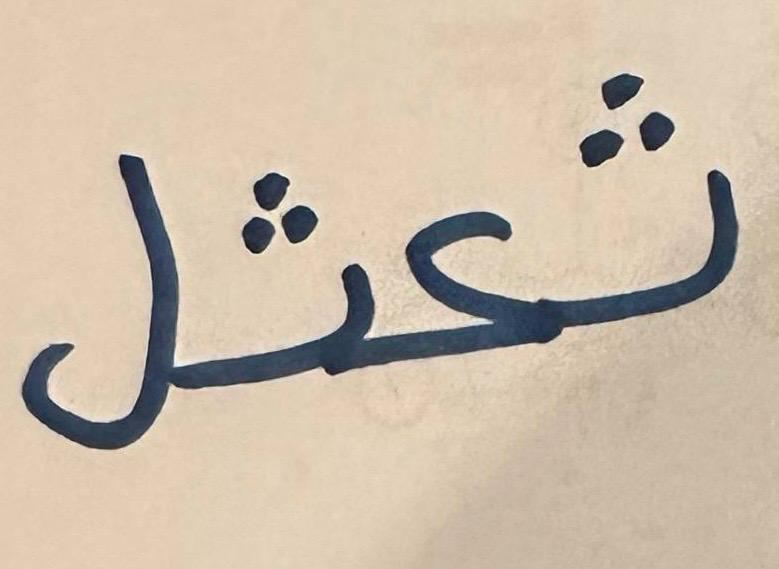ain: (388, 139, 549, 438)
meem: (2, 74, 198, 495)
waw: (552, 32, 767, 395), (201, 138, 386, 467)
